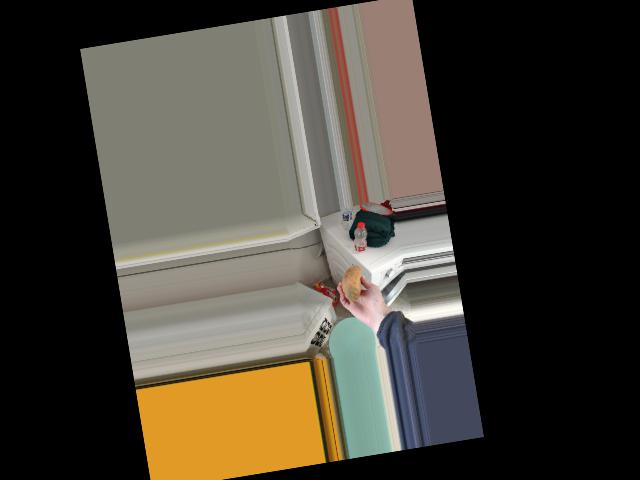sweet_potato: (340, 264, 364, 306)
